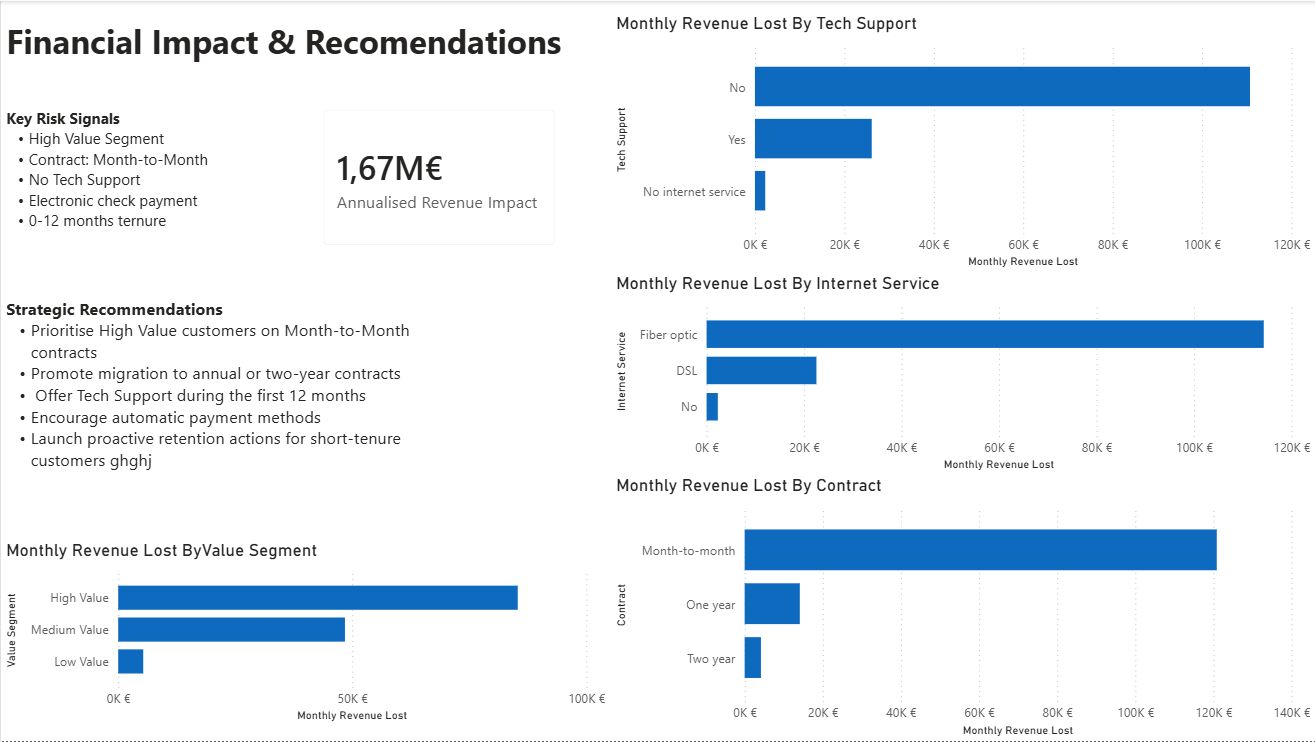

The dashboard page shown, as its layout file describes it:
{"tool":"powerbi","page":{"name":"Financial Impact & Recomendations","canvas":[1280,720],"ordinal":2},"visuals":[{"type":"cardVisual","fields":{"Data":["B2B_Churn_Limpo2.Annual Revenue Lost"]},"box":[296.8,88,259.9,166.2],"z":0},{"type":"barChart","title":"Monthly Revenue Lost ByValue Segment","fields":{"Category":["B2B_Churn_Limpo2.Customer_Tier"],"Y":["B2B_Churn_Limpo2.MRR Lost"]},"box":[0,524.3,593.3,181.9],"z":1000},{"type":"barChart","title":"Monthly Revenue Lost By Contract","fields":{"Category":["B2B_Churn_Limpo2.Contract"],"Y":["B2B_Churn_Limpo2.MRR Lost"]},"box":[593.4,461.1,686,258.9],"z":2000},{"type":"textbox","box":[0,98,211.6,170.4],"z":3000},{"type":"textbox","box":[0,282.6,454.4,178.9],"z":4000},{"type":"barChart","title":"Monthly Revenue Lost By Tech Support","fields":{"Category":["B2B_Churn_Limpo2.Tech Support"],"Y":["B2B_Churn_Limpo2.MRR Lost"]},"box":[593.6,11.4,685.9,252.8],"z":5000},{"type":"barChart","title":"Monthly Revenue Lost By Internet Service","fields":{"Category":["B2B_Churn_Limpo2.Internet Service"],"Y":["B2B_Churn_Limpo2.MRR Lost"]},"box":[593.6,264.1,685.9,197.4],"z":6000},{"type":"textbox","box":[0,11.4,572.3,76.7],"z":7000}]}

Visuals, with their boxes in screenshot pixels (x1, y1, x2, y2), scaled from the page's 1280x720 canvas onto the 1315x742 screenshot:
cardVisual - B2B_Churn_Limpo2.Annual Revenue Lost: 305:91:572:262
"Monthly Revenue Lost ByValue Segment" barChart: 0:540:610:728
"Monthly Revenue Lost By Contract" barChart: 610:475:1314:741
textbox: 0:101:217:277
textbox: 0:291:467:476
"Monthly Revenue Lost By Tech Support" barChart: 610:12:1314:272
"Monthly Revenue Lost By Internet Service" barChart: 610:272:1314:476
textbox: 0:12:588:91
